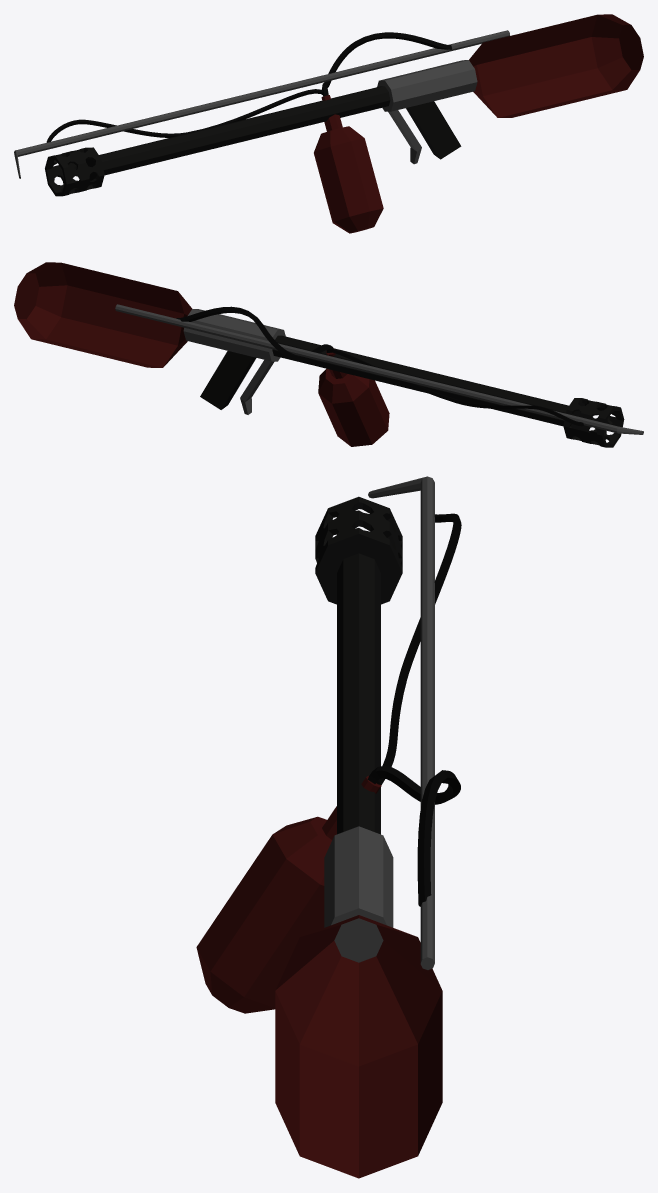
The model's file is Flamethrower Model.obj.
3 views of the same model, one above another, from view 1: azimuth 30°, elevation 25°; view 2: azimuth 150°, elevation 25°; view 3: azimuth 270°, elevation 25° (orthographic). The views are drawn at different scales.
Parts seen in each view (by area): view 1: Cylinder, Cylinder.003_Cylinder.004, Cylinder.001_Cylinder.002, Cylinder.002_Cylinder.003, Cube_Cube.003, BezierCurve.001_BezierCurve.002, BezierCurve_BezierCurve.001, Cube.001_Cube.004; view 2: Cylinder, Cylinder.003_Cylinder.004, Cylinder.001_Cylinder.002, Cylinder.002_Cylinder.003, Cube_Cube.003, BezierCurve_BezierCurve.001, BezierCurve.001_BezierCurve.002, Cube.001_Cube.004; view 3: Cylinder, Cylinder.003_Cylinder.004, Cylinder.002_Cylinder.003, Cylinder.001_Cylinder.002, BezierCurve_BezierCurve.001, BezierCurve.001_BezierCurve.002.
Boxes of the visible parts, <box> form: Cylinder: <box>45,14,643,196</box>; Cylinder.003_Cylinder.004: <box>314,95,383,233</box>; Cylinder.001_Cylinder.002: <box>14,30,509,178</box>; Cylinder.002_Cylinder.003: <box>377,60,477,111</box>; Cube_Cube.003: <box>406,101,461,159</box>; BezierCurve.001_BezierCurve.002: <box>46,89,322,142</box>; BezierCurve_BezierCurve.001: <box>322,32,451,96</box>; Cube.001_Cube.004: <box>388,110,421,164</box>; Cylinder: <box>14,262,624,447</box>; Cylinder.003_Cylinder.004: <box>318,349,389,446</box>; Cylinder.001_Cylinder.002: <box>115,304,643,434</box>; Cylinder.002_Cylinder.003: <box>183,309,285,361</box>; Cube_Cube.003: <box>200,351,256,409</box>; BezierCurve_BezierCurve.001: <box>176,306,333,361</box>; BezierCurve.001_BezierCurve.002: <box>326,348,583,426</box>; Cube.001_Cube.004: <box>240,360,274,414</box>; Cylinder: <box>275,496,442,1178</box>; Cylinder.003_Cylinder.004: <box>196,775,381,1013</box>; Cylinder.002_Cylinder.003: <box>324,826,393,962</box>; Cylinder.001_Cylinder.002: <box>368,476,434,969</box>; BezierCurve_BezierCurve.001: <box>367,765,460,906</box>; BezierCurve.001_BezierCurve.002: <box>376,513,461,784</box>.
Size of the model in its own units: 17.31 by 4.05 by 3.27.
